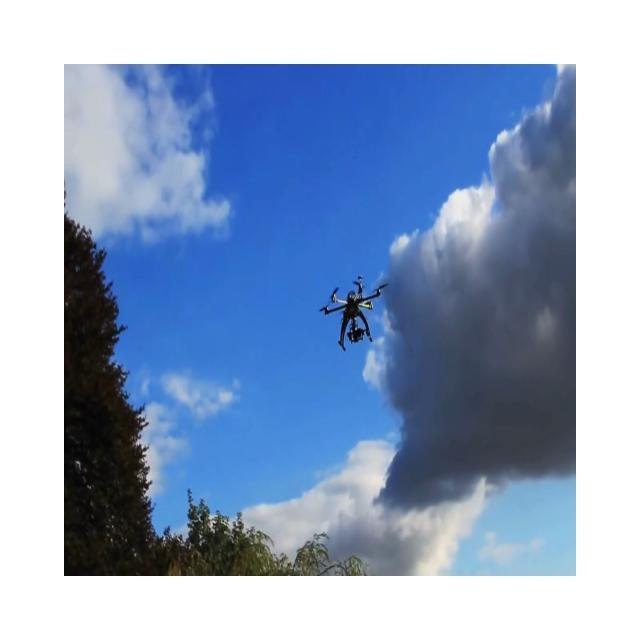drone: (318, 274, 389, 352)
